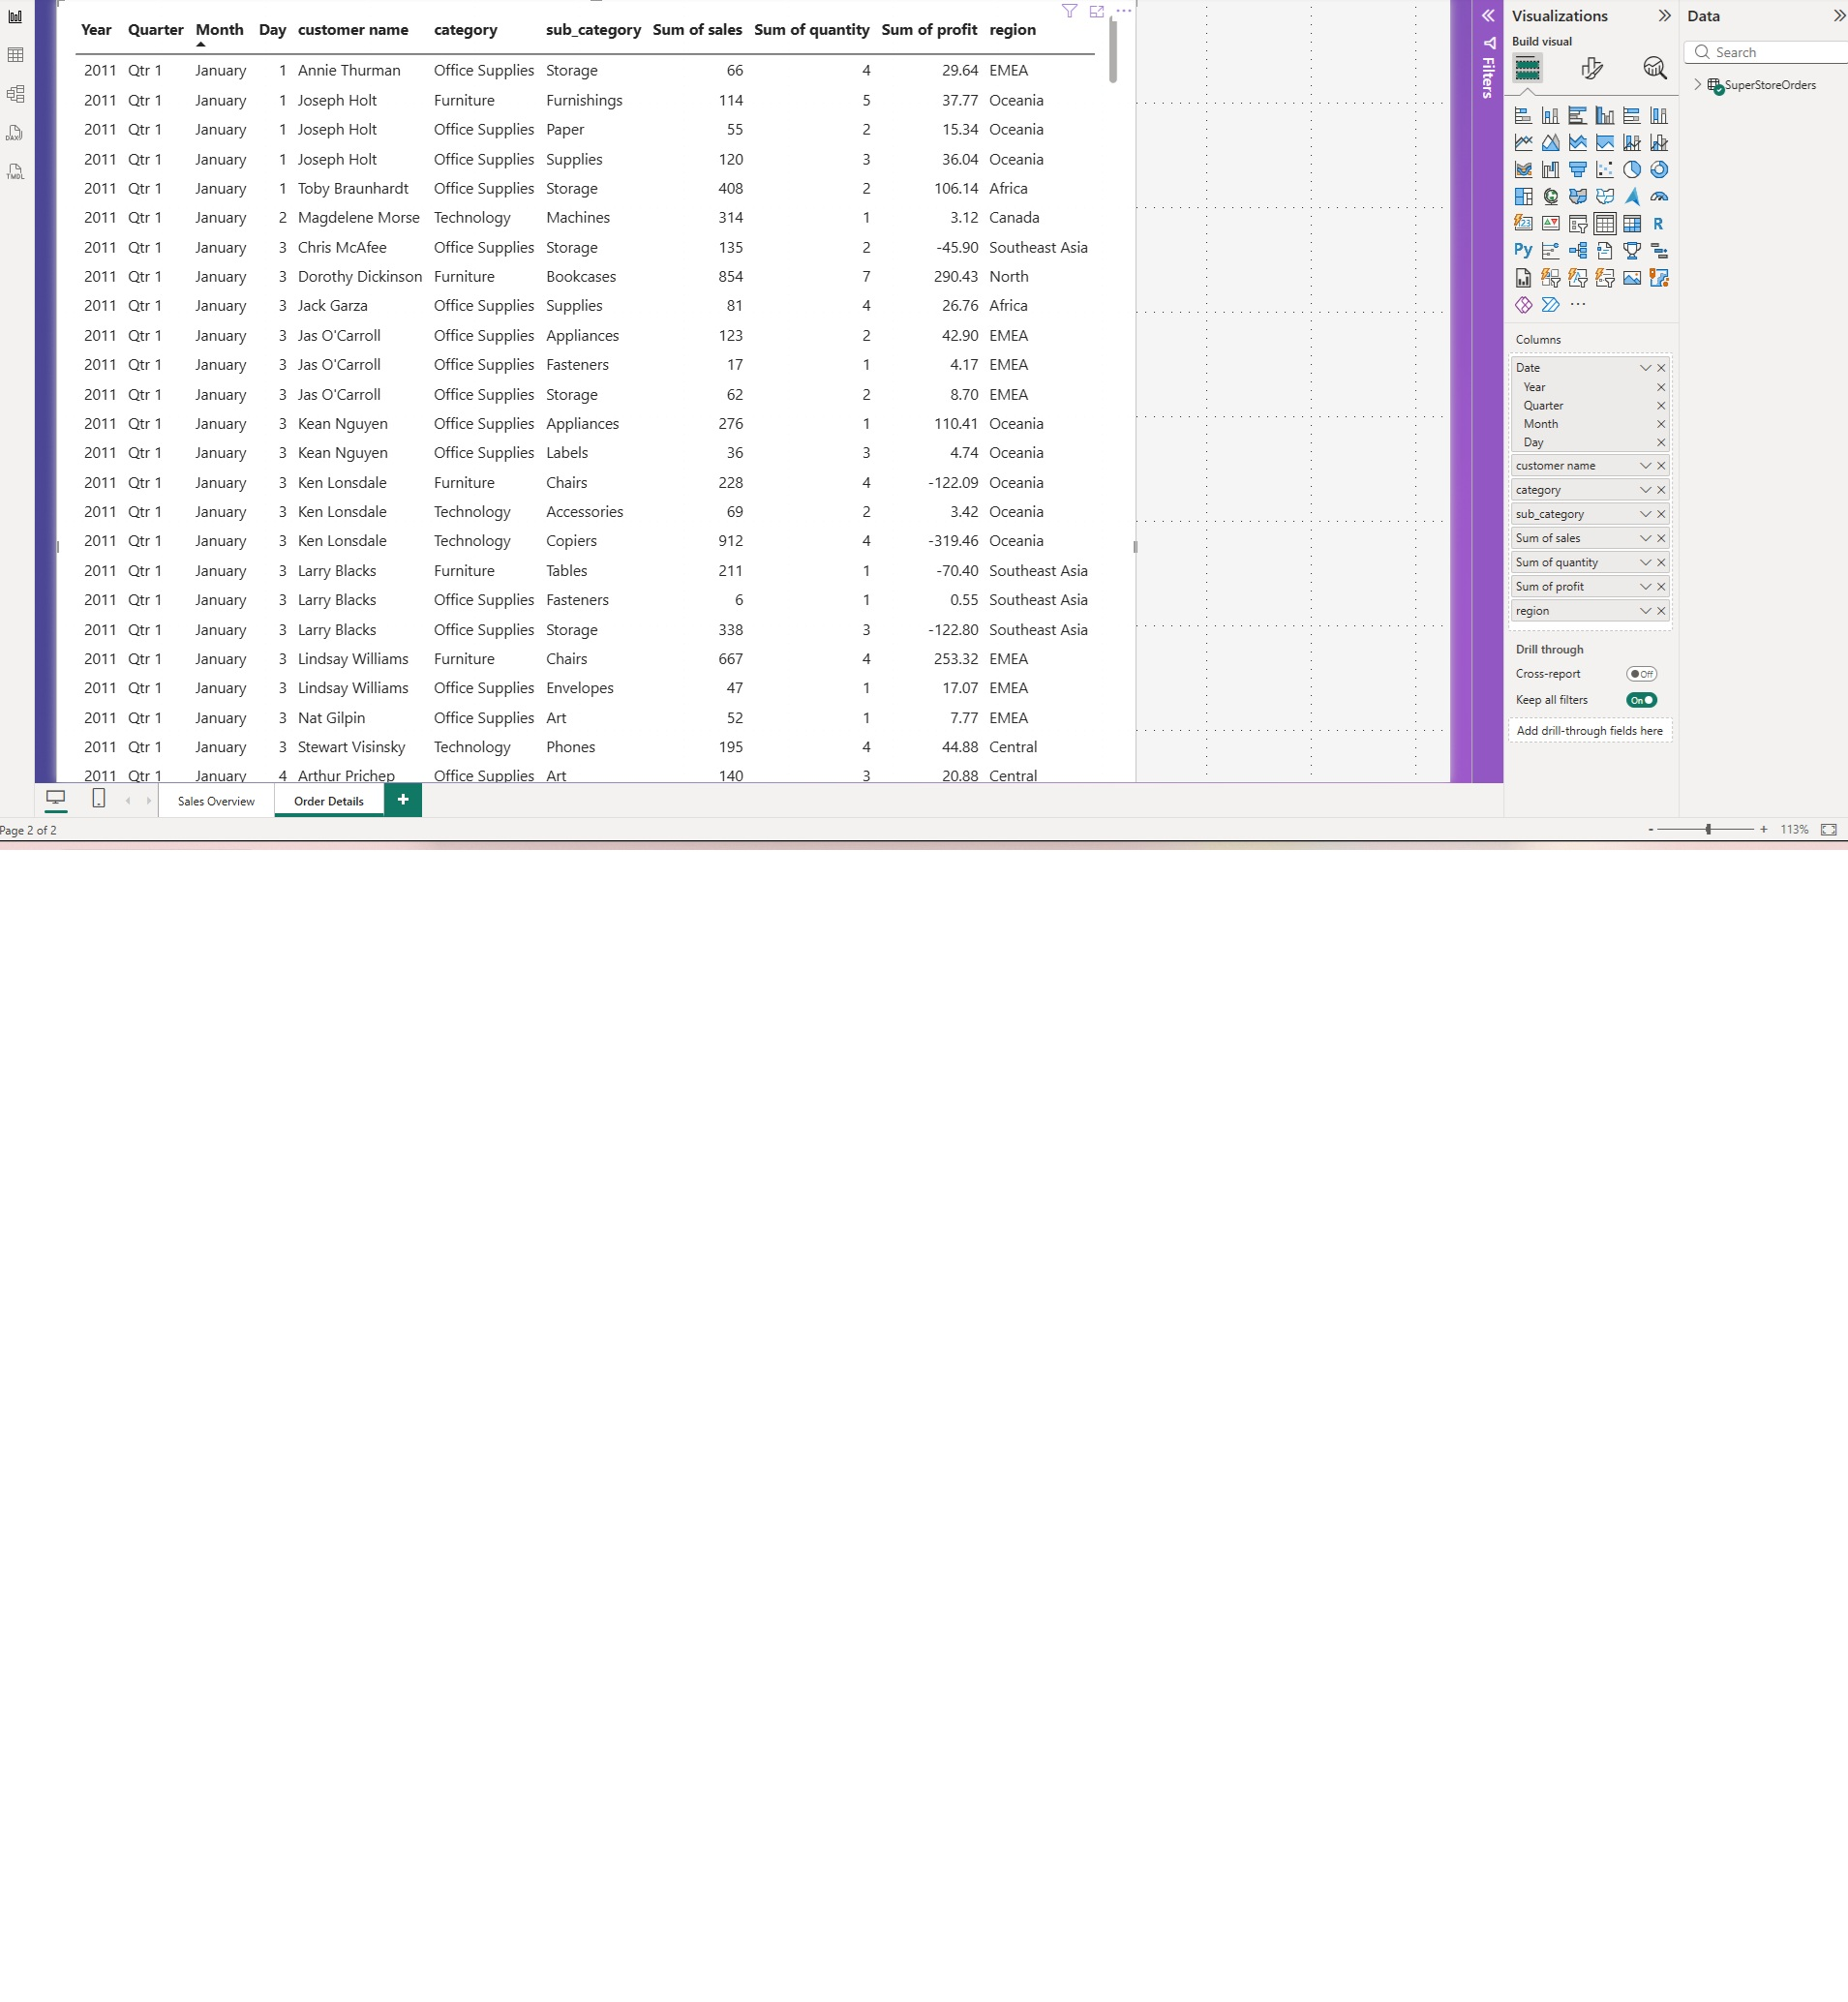

Layout of this report page (visuals, bound fields, positions):
{"tool":"powerbi","page":{"name":"Order Details","canvas":[1280,720],"ordinal":1},"visuals":[{"type":"tableEx","fields":{"Values":["SuperStoreOrders.order_date.Variation.Date Hierarchy.Year","SuperStoreOrders.order_date.Variation.Date Hierarchy.Quarter","SuperStoreOrders.order_date.Variation.Date Hierarchy.Month","SuperStoreOrders.order_date.Variation.Date Hierarchy.Day","SuperStoreOrders.customer_name","SuperStoreOrders.category","SuperStoreOrders.sub_category","Sum(SuperStoreOrders.sales)","Sum(SuperStoreOrders.quantity)","Sum(SuperStoreOrders.profit)","SuperStoreOrders.region"]},"box":[0,0,992,1008],"z":0}]}

Visuals, with their boxes in screenshot pixels (x1, y1, x2, y2):
tableEx - SuperStoreOrders.order_date.Variation.Date Hierarchy.Year x SuperStoreOrders.order_date.Variation.Date Hierarchy.Quarter: [31,834,1494,2001]
